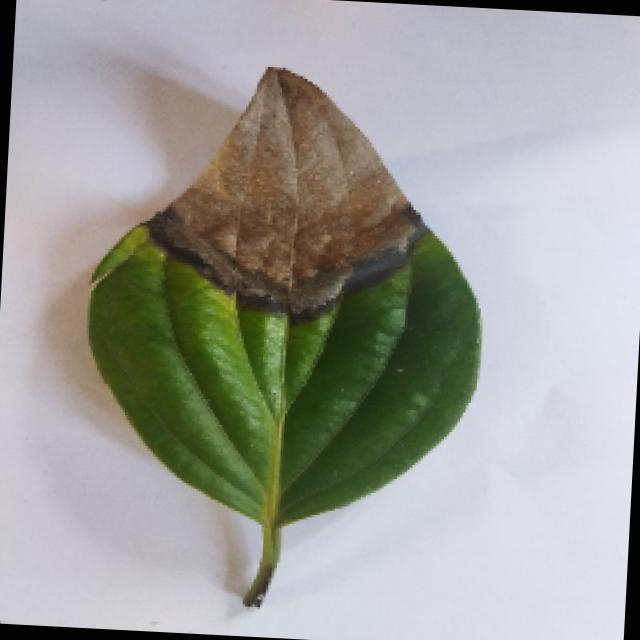footrot: (65, 60, 493, 618)
